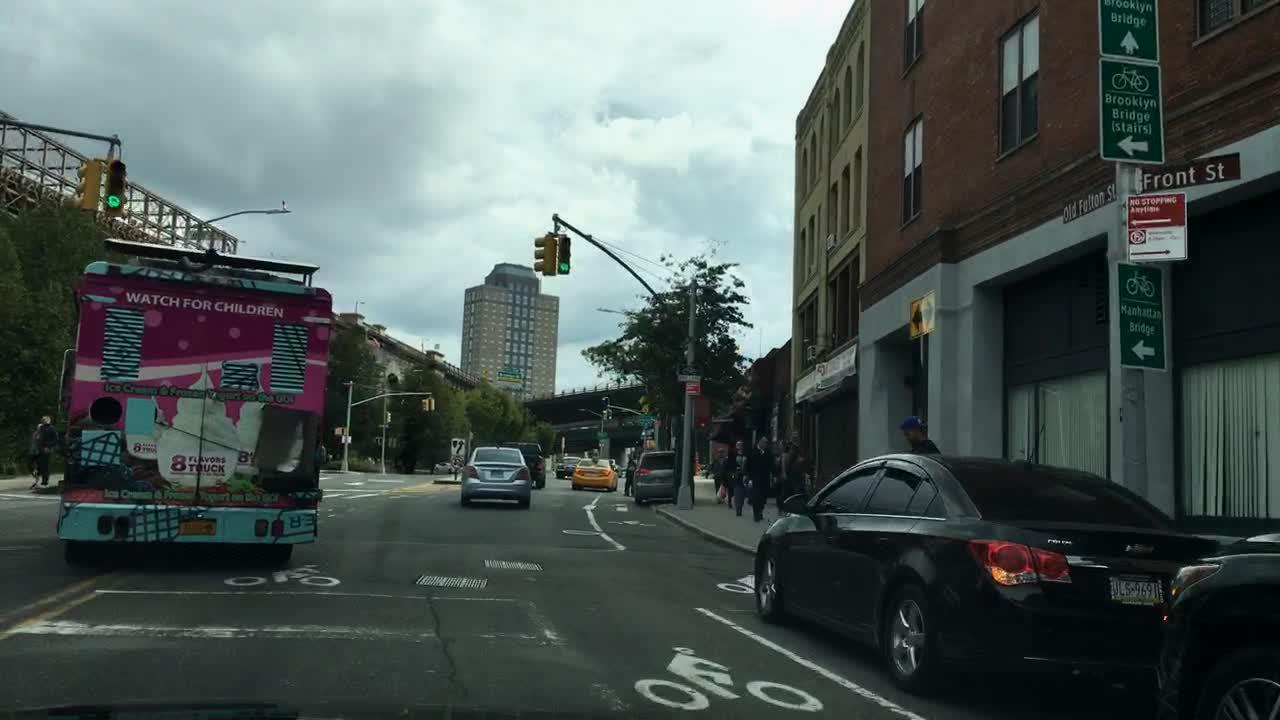chevrolet: (1123, 538, 1161, 559)
